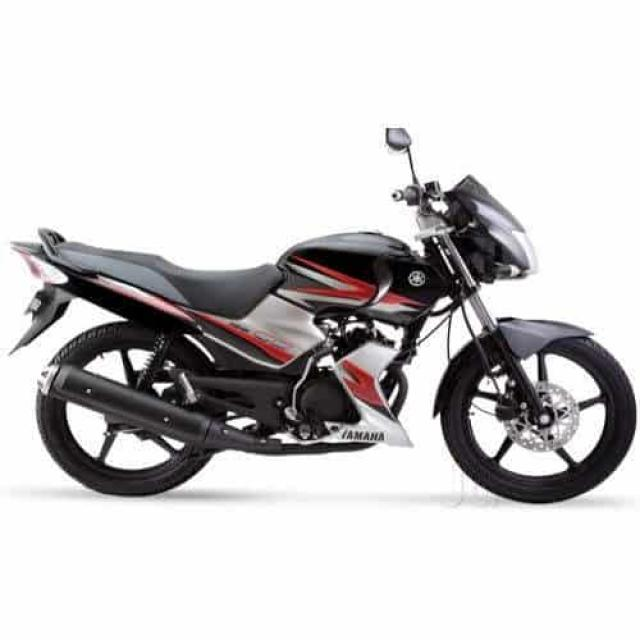Bike: (13, 115, 640, 517)
